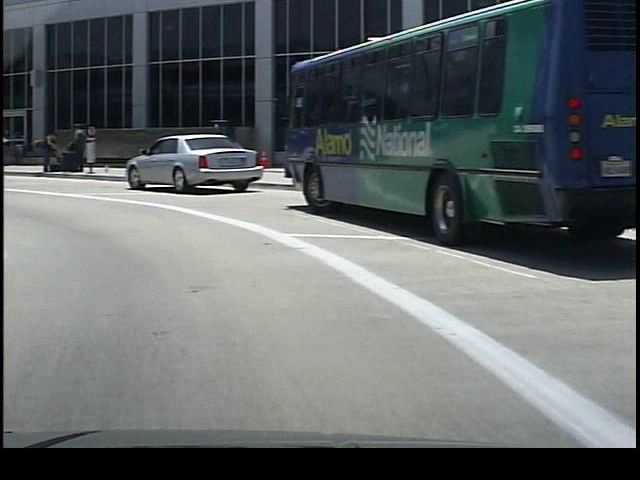person: (28, 125, 57, 179), (64, 123, 84, 177)
